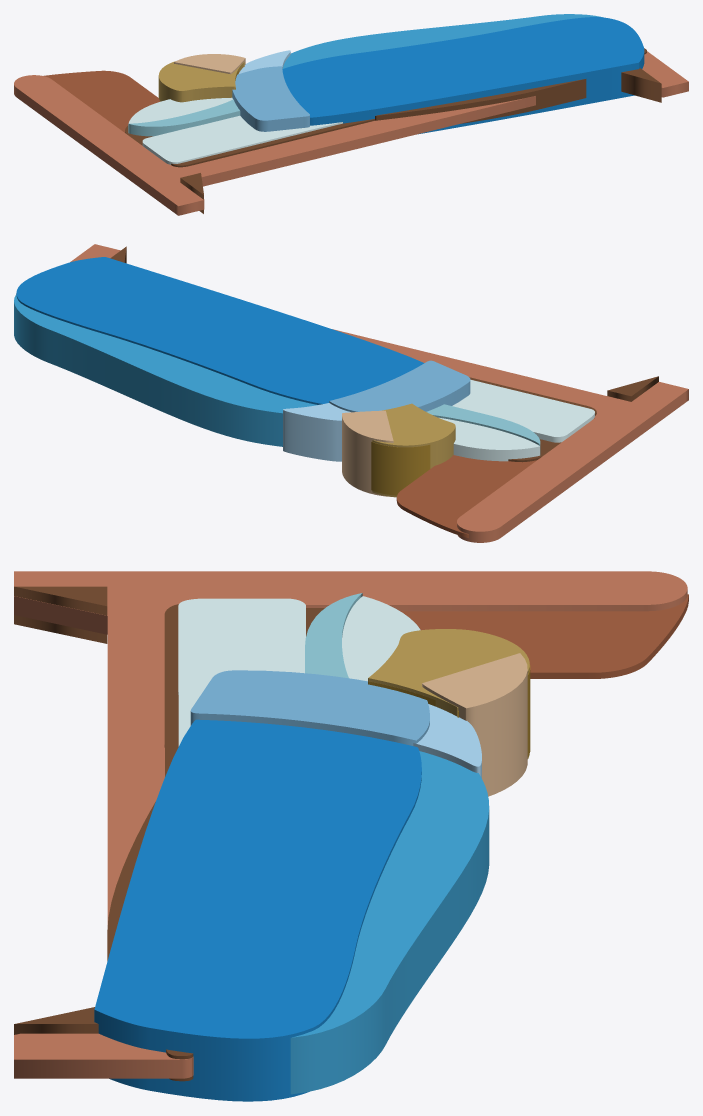
File: emoji_u1f6cc_1f3fc.glb
3 views of the same model, one above another, from view 1: azimuth 30°, elevation 25°; view 2: azimuth 150°, elevation 25°; view 3: azimuth 270°, elevation 25° (orthographic). The views are drawn at different scales.
Visible parts, largest first — view 1: emoji_u1f6cc_1f3fc; view 2: emoji_u1f6cc_1f3fc; view 3: emoji_u1f6cc_1f3fc.
Boxes of the visible parts, x1,y1,x2,y2 form: emoji_u1f6cc_1f3fc: [14, 14, 688, 215]; emoji_u1f6cc_1f3fc: [14, 244, 688, 542]; emoji_u1f6cc_1f3fc: [14, 571, 688, 1101].
Bounding box in the file's own units: 0.0334 × 0.003 × 0.0195.
